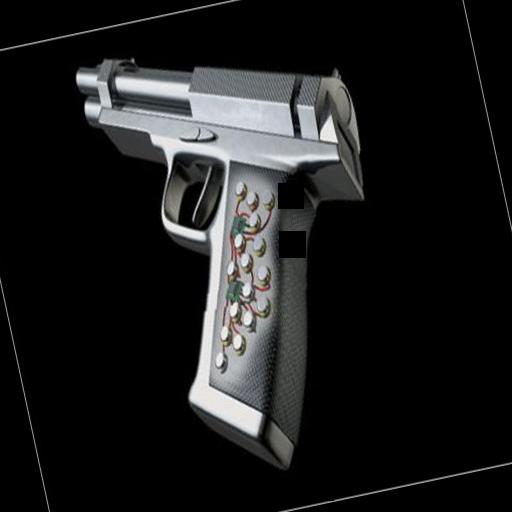Handgun: (66, 5, 424, 494)
